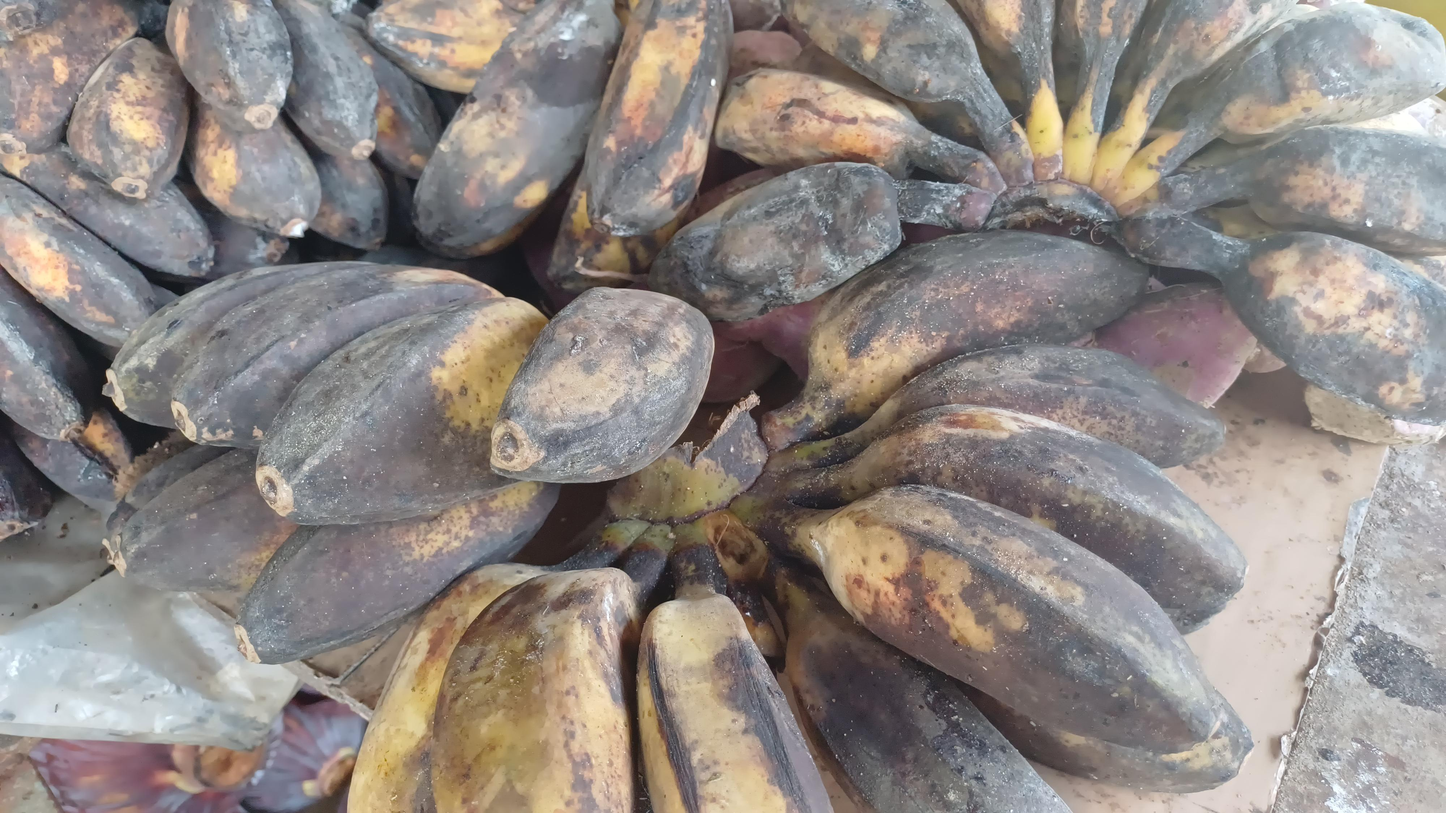overripe: (349, 229, 1254, 813), (643, 0, 1446, 431), (106, 262, 713, 663), (0, 145, 287, 537), (367, 0, 733, 291)
ripe: (0, 0, 439, 249)
